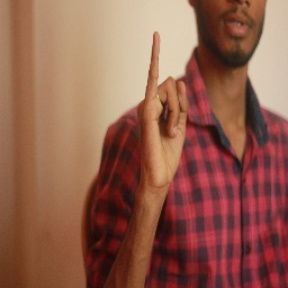I: (134, 29, 193, 180)
